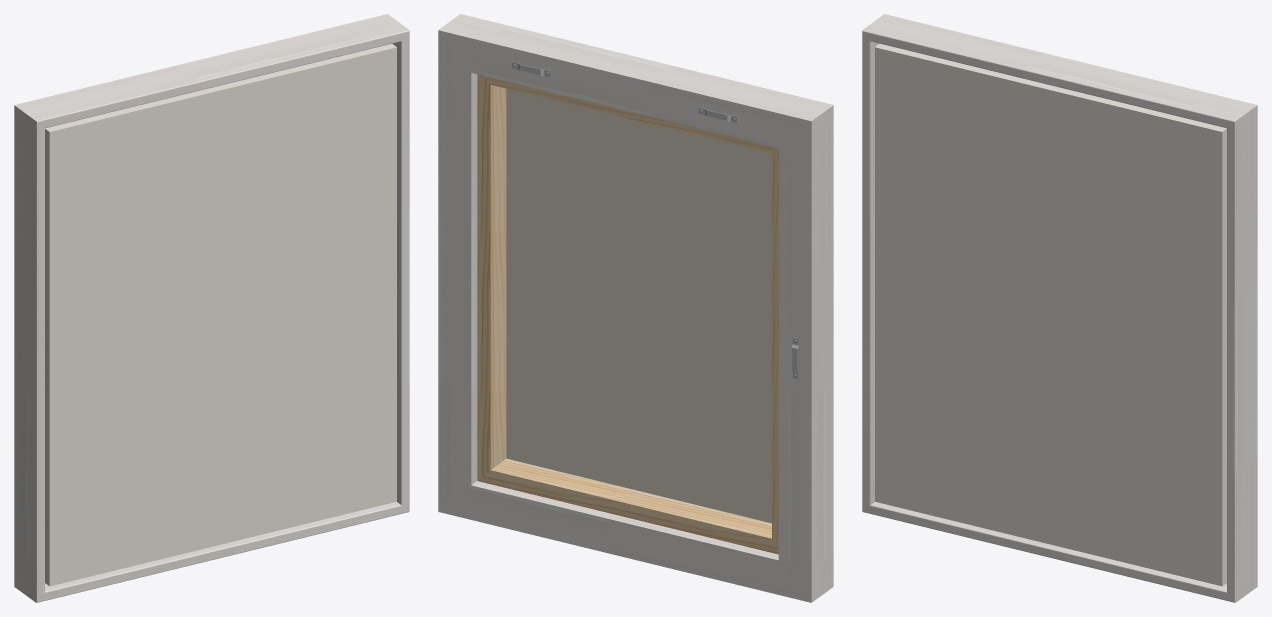
The model's file is decoded-from-delivery.glb.
3 renders of one model, left to right at view 1: azimuth 30°, elevation 25°; view 2: azimuth 150°, elevation 25°; view 3: azimuth 330°, elevation 25°, orthographic.
Visible parts, largest first — view 1: Canvas artwork front, Tray approved profile 0; view 2: Canvas linen reverse, Tray approved profile 0, Stretcher top, Sawtooth hanger 0; view 3: Canvas artwork front, Tray approved profile 0.
Part boxes in pixels (<box>): Canvas artwork front: <box>45,44,396,586</box>; Tray approved profile 0: <box>14,14,409,602</box>; Canvas linen reverse: <box>506,88,771,523</box>; Tray approved profile 0: <box>438,14,833,602</box>; Stretcher top: <box>477,74,778,554</box>; Sawtooth hanger 0: <box>511,61,798,379</box>; Canvas artwork front: <box>875,44,1226,586</box>; Tray approved profile 0: <box>862,14,1257,602</box>.
Size of the model in its own units: 0.43 by 0.53 by 0.0474.
Materials: 7 (3 with a texture image).
